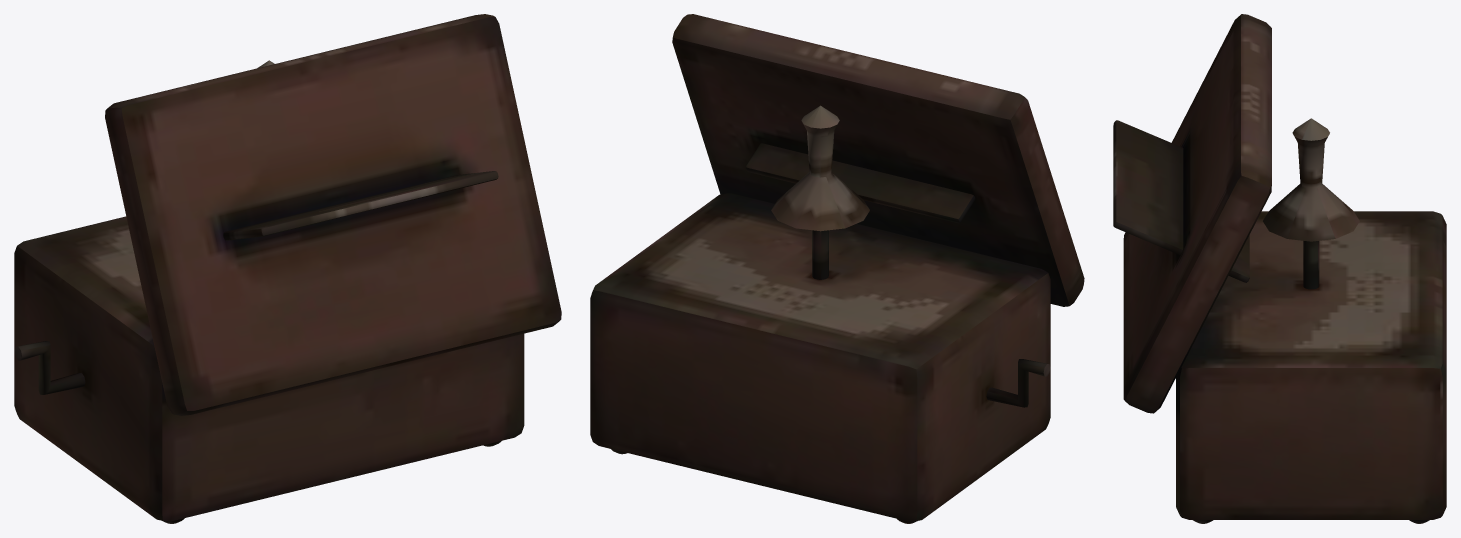
The model's file is MusicBox.glb.
3 renders of one model, left to right at view 1: azimuth 30°, elevation 25°; view 2: azimuth 150°, elevation 25°; view 3: azimuth 270°, elevation 25°, orthographic. The views are drawn at different scales.
Visible parts, largest first — view 1: Tex__SmoothPlastic__FFFFFF; view 2: Tex__SmoothPlastic__FFFFFF; view 3: Tex__SmoothPlastic__FFFFFF.
Boxes of the visible parts, <box> form: Tex__SmoothPlastic__FFFFFF: <box>14,14,561,523</box>; Tex__SmoothPlastic__FFFFFF: <box>590,14,1084,523</box>; Tex__SmoothPlastic__FFFFFF: <box>1113,14,1446,523</box>.
Size of the model in its own units: 0.469 by 0.4121 by 0.3449.
Materials: 1 (1 with a texture image).
